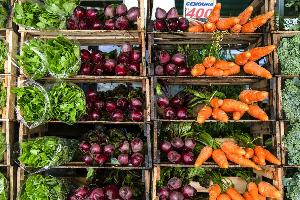carrot: (194, 120, 276, 166), (188, 35, 276, 77), (188, 78, 276, 120), (193, 166, 285, 200), (192, 1, 272, 34)
